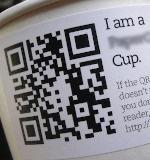Finder pattern: (62, 20, 104, 60), (15, 113, 47, 148), (2, 41, 31, 75)
